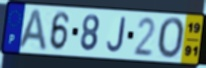2: (133, 16, 157, 58)
6: (49, 10, 72, 52)
8: (79, 14, 100, 53)
A: (16, 8, 49, 52)
J: (105, 16, 127, 54)
O: (157, 16, 187, 61)
